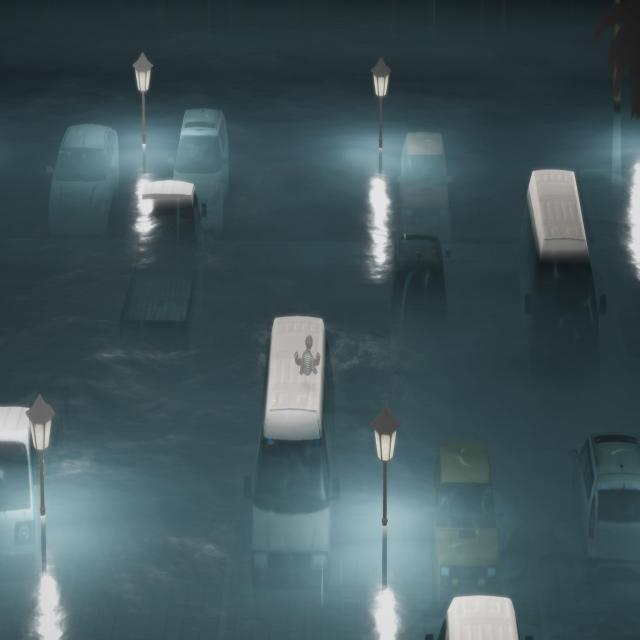Human: (290, 329, 326, 377)
